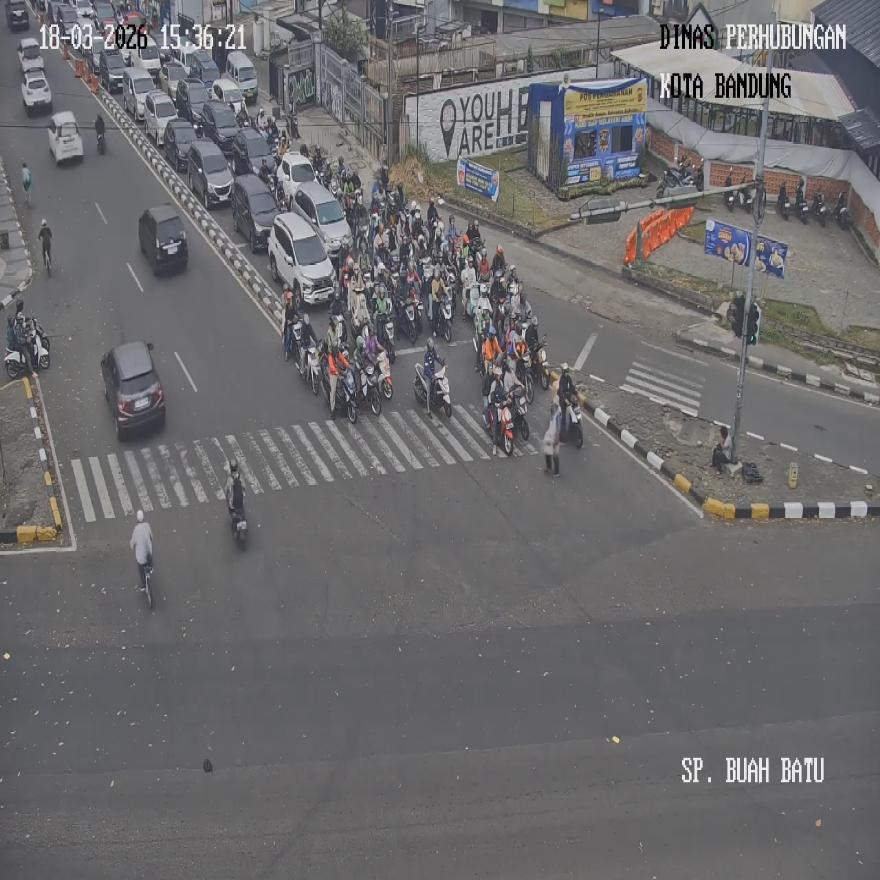Motor: (268, 210, 336, 306), (100, 341, 165, 439), (293, 179, 351, 261), (139, 203, 188, 275)
Truk: (4, 322, 50, 378), (414, 361, 452, 419), (486, 396, 514, 456), (328, 366, 357, 422), (352, 356, 380, 413), (506, 382, 528, 442), (542, 404, 560, 476), (558, 396, 583, 447), (299, 341, 320, 395), (513, 352, 533, 408), (530, 334, 548, 391), (374, 348, 393, 398), (228, 501, 247, 551), (434, 295, 453, 342), (400, 298, 418, 345), (284, 314, 302, 361), (380, 310, 396, 362), (138, 558, 154, 608), (724, 168, 737, 211), (740, 180, 756, 212), (836, 190, 848, 228), (813, 191, 826, 226), (94, 112, 105, 153), (778, 183, 790, 220), (797, 190, 808, 222), (96, 131, 105, 154)
